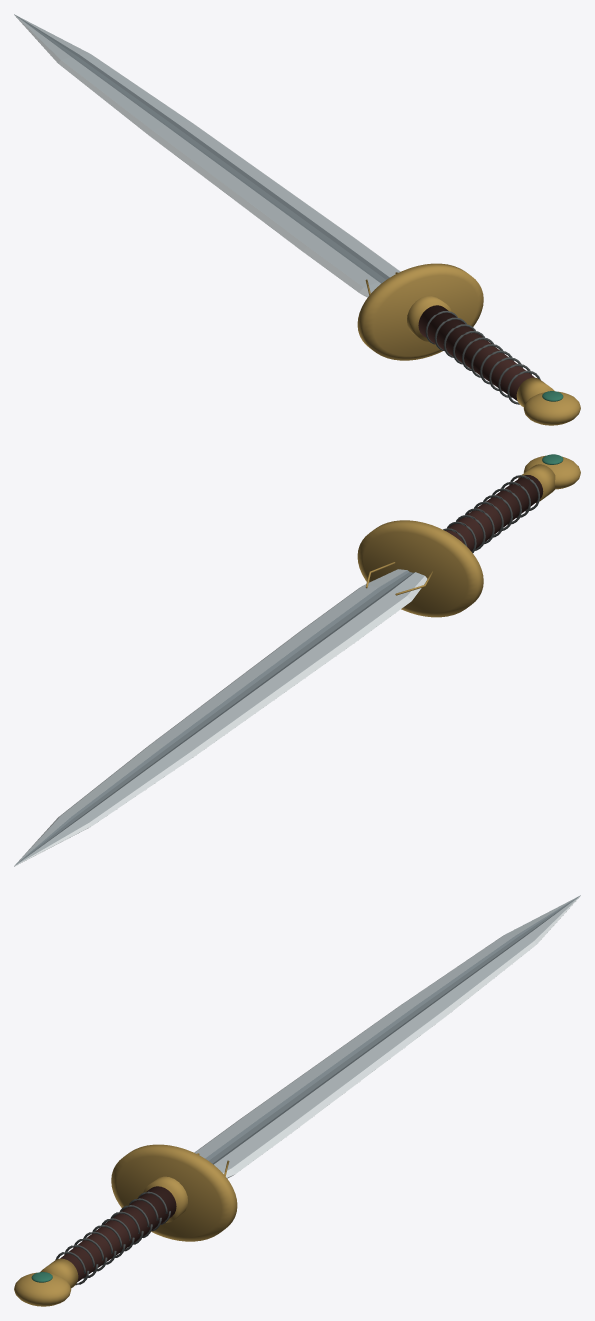
File: cairnwarden.glb
3 renders of one model, top to bottom at view 1: azimuth 30°, elevation 25°; view 2: azimuth 150°, elevation 25°; view 3: azimuth 330°, elevation 25°, orthographic.
Visible parts, largest first — view 1: Forged_cairnwarden; view 2: Forged_cairnwarden; view 3: Forged_cairnwarden.
Part boxes in pixels (left/top/right/bottom): Forged_cairnwarden: left=14, top=14, right=580, bottom=425; Forged_cairnwarden: left=14, top=454, right=580, bottom=866; Forged_cairnwarden: left=14, top=895, right=580, bottom=1306.
Size of the model in its own units: 0.172 by 0.1204 by 1.37.
